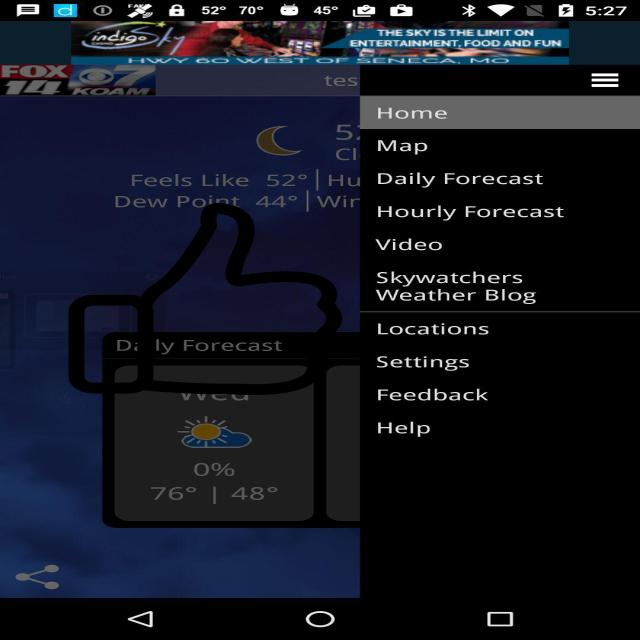privacy zuckering: (65, 203, 346, 395)
